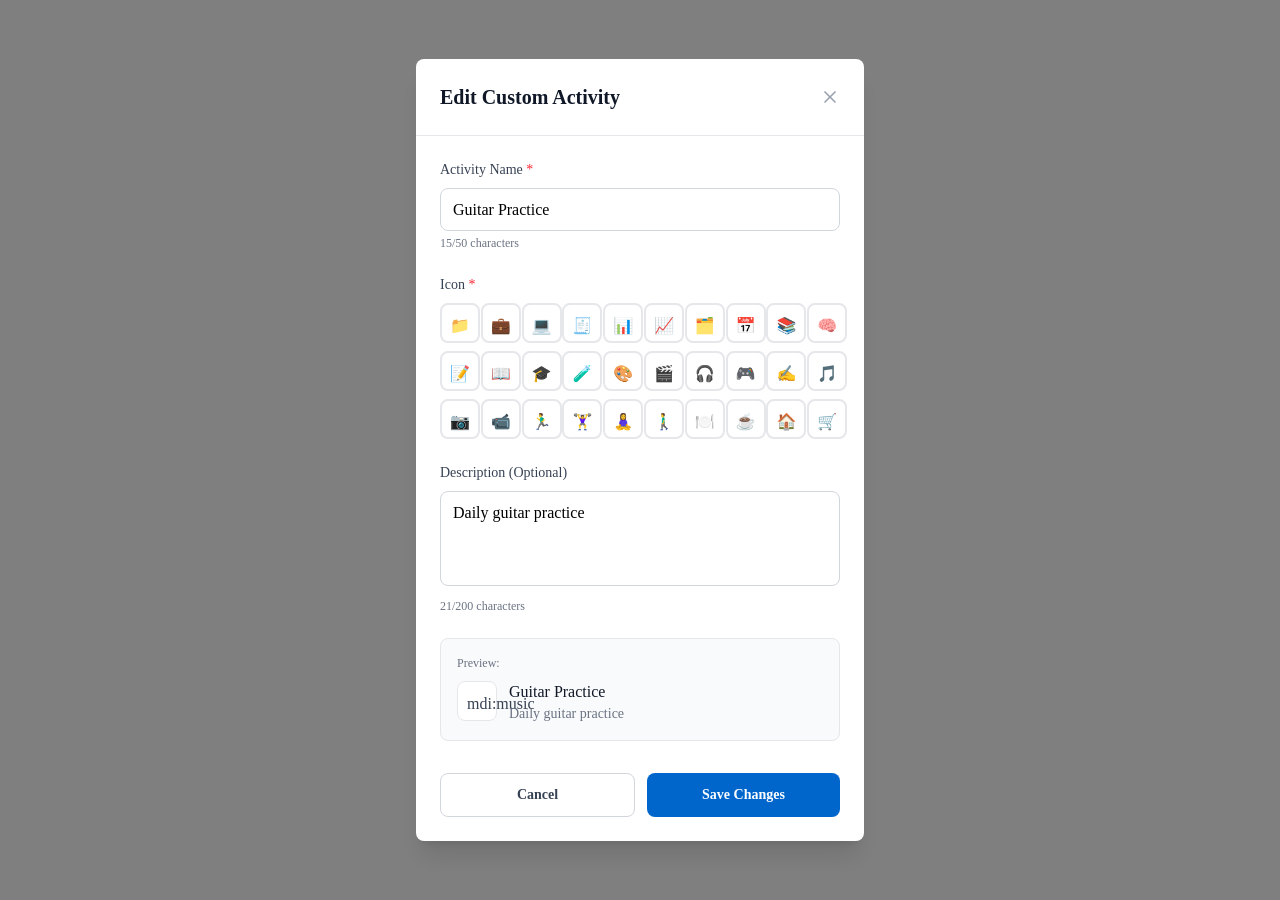
Scenario: EditCustomActivityModal › Form Validation › should require activity name
The image size is (1280, 900).
Clear the field labelled "Activity Name *" at (640, 210), box [440, 188, 840, 231]
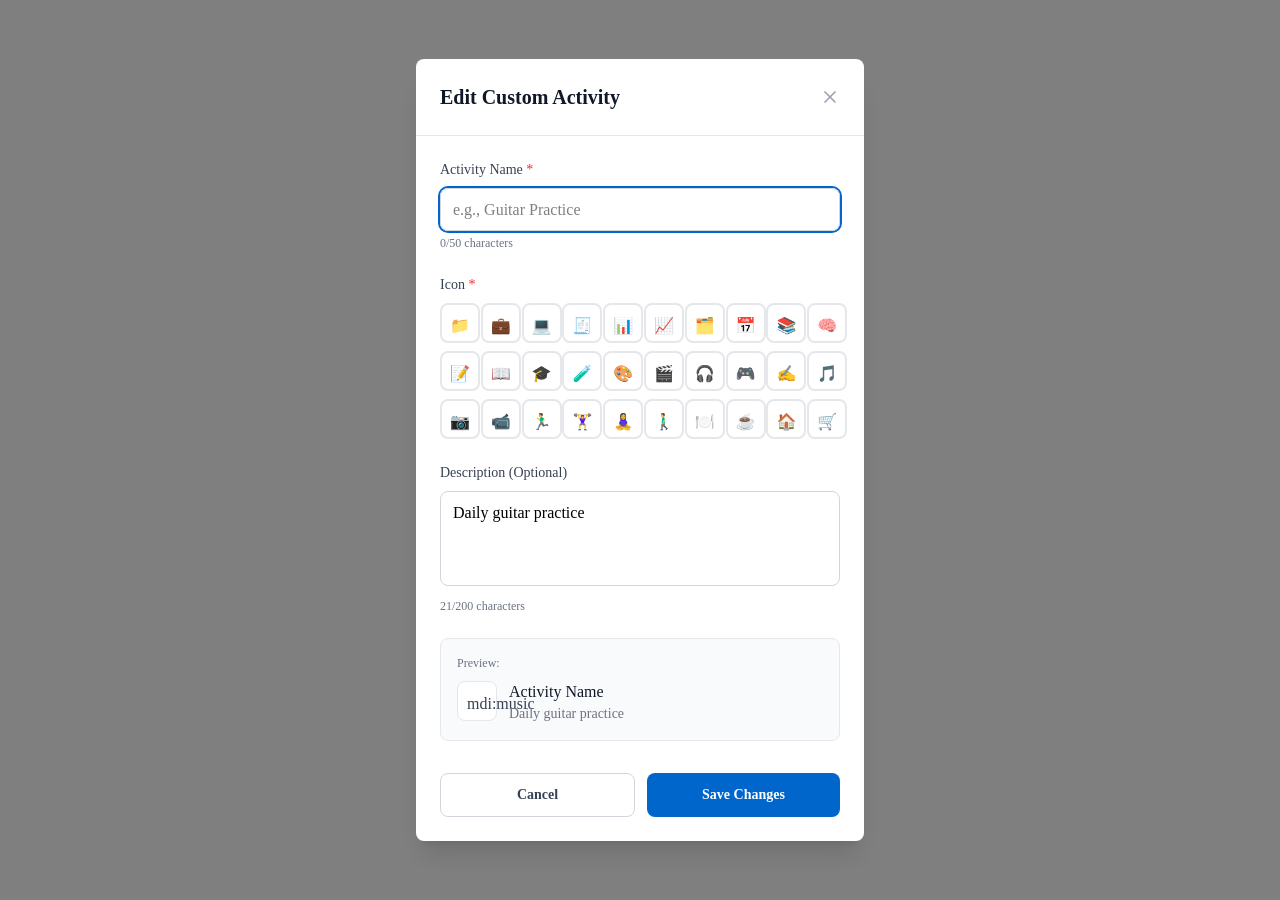
Click the button "Save Changes".
click(744, 795)  # box [647, 773, 840, 817]
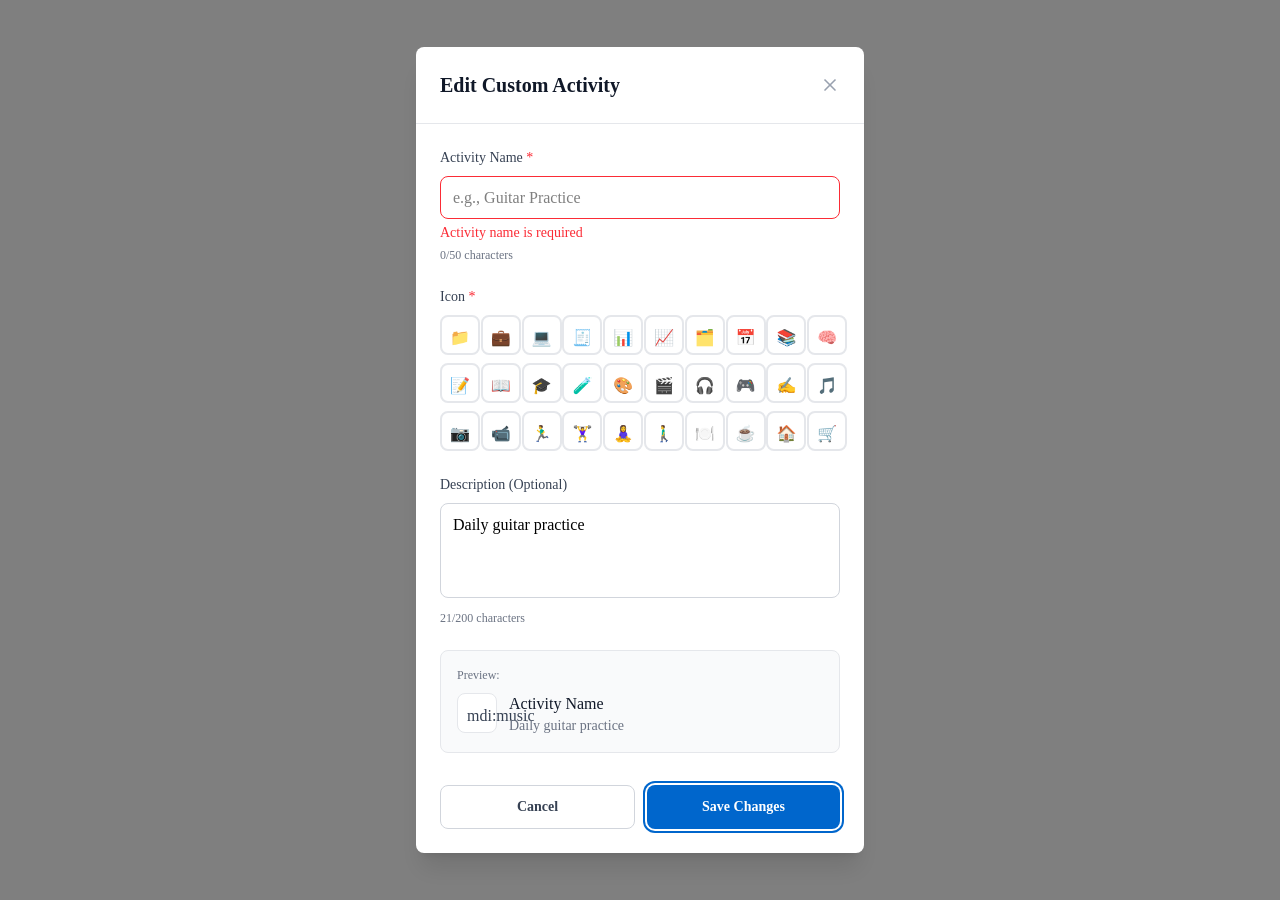
Now the text "Activity name is required" is shown, box [440, 225, 583, 240]
